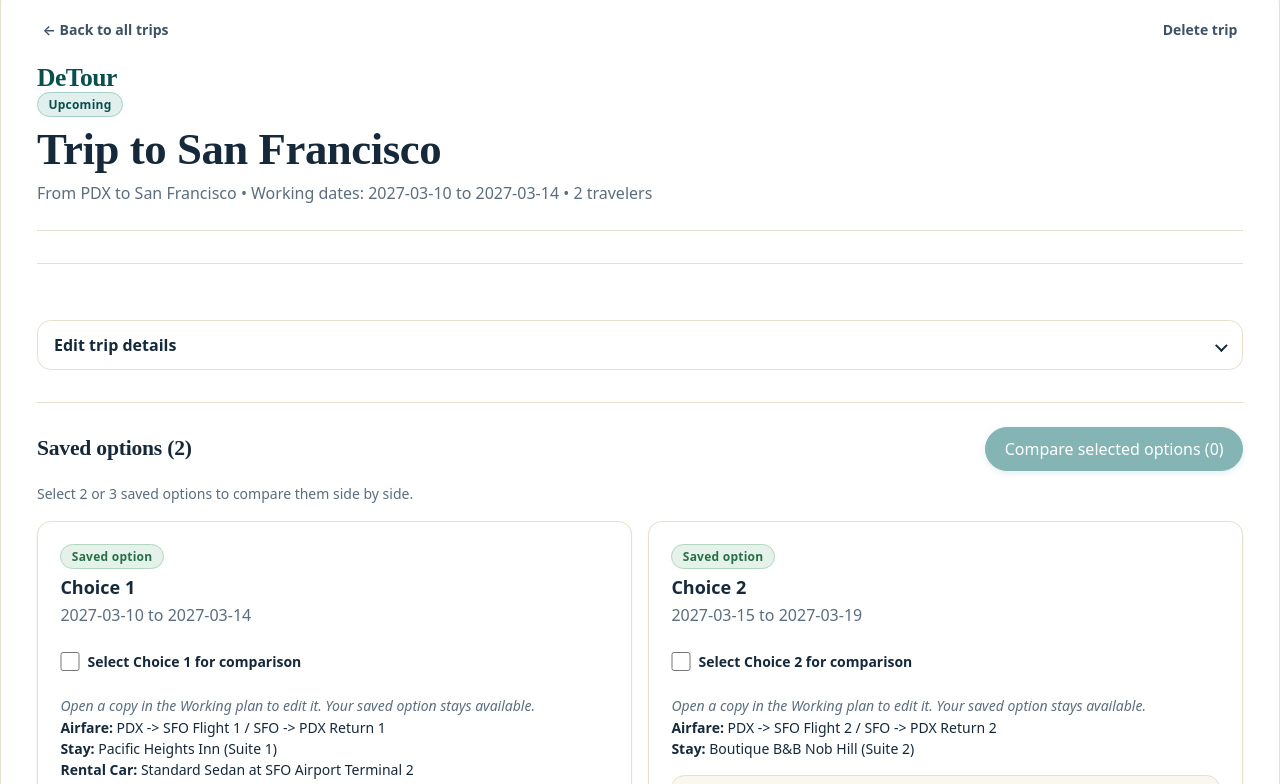
Test: Itinerary Comparison and Booking Selection › renders desktop side-by-side comparison matrix with complete attribute columns for 2 or 3 alternatives
Click the checkbox labelled "Select Choice 1 for comparison" at (70, 661), box 60,652 -> 80,671
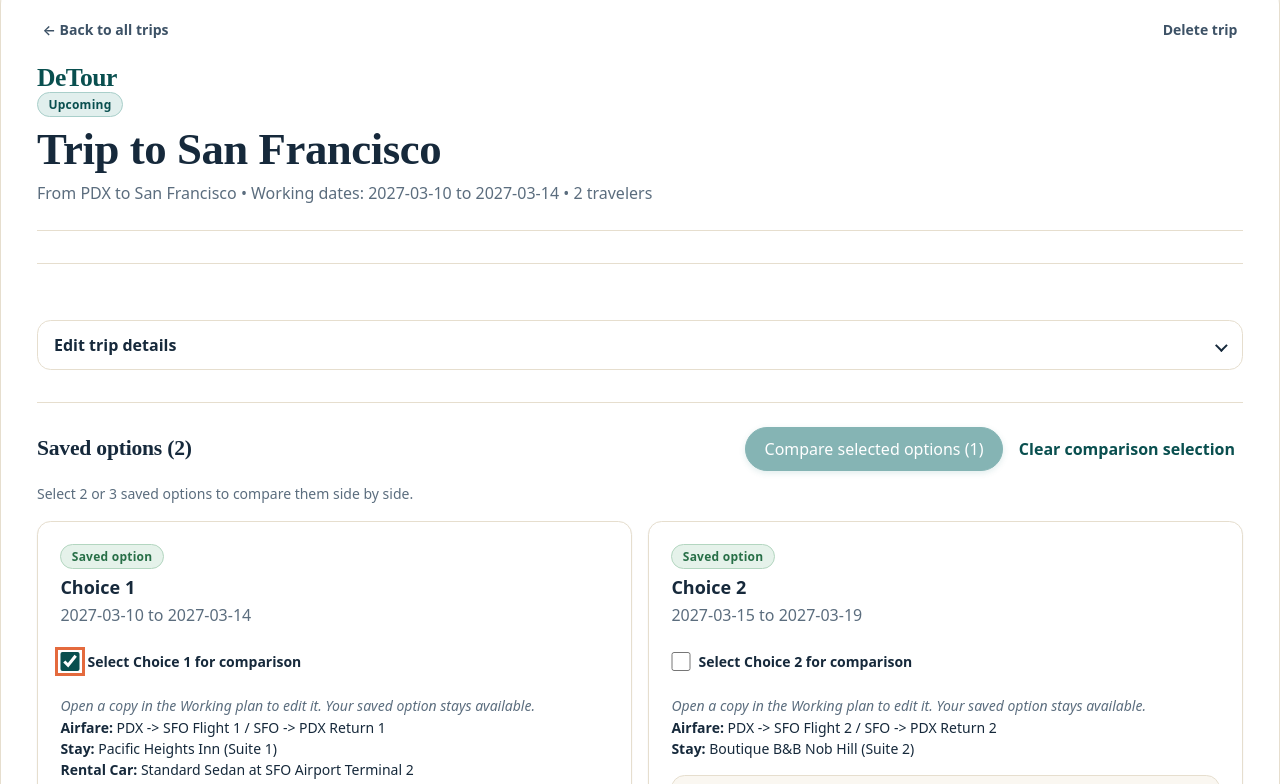
Click the checkbox labelled "Select Choice 2 for comparison" at (681, 661), box 671,652 -> 691,671
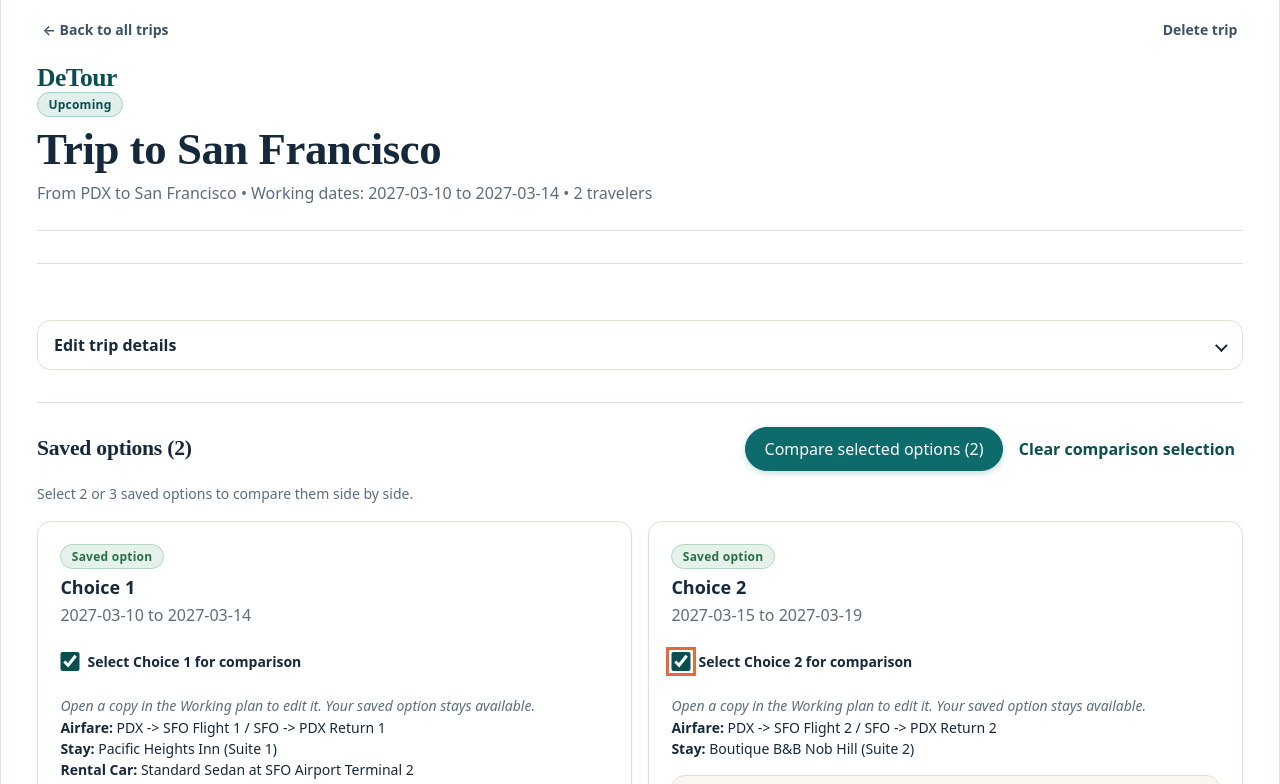
Click the button "Compare selected options (2)" at (874, 449), box 745,427 -> 1003,471
(page scrolled)
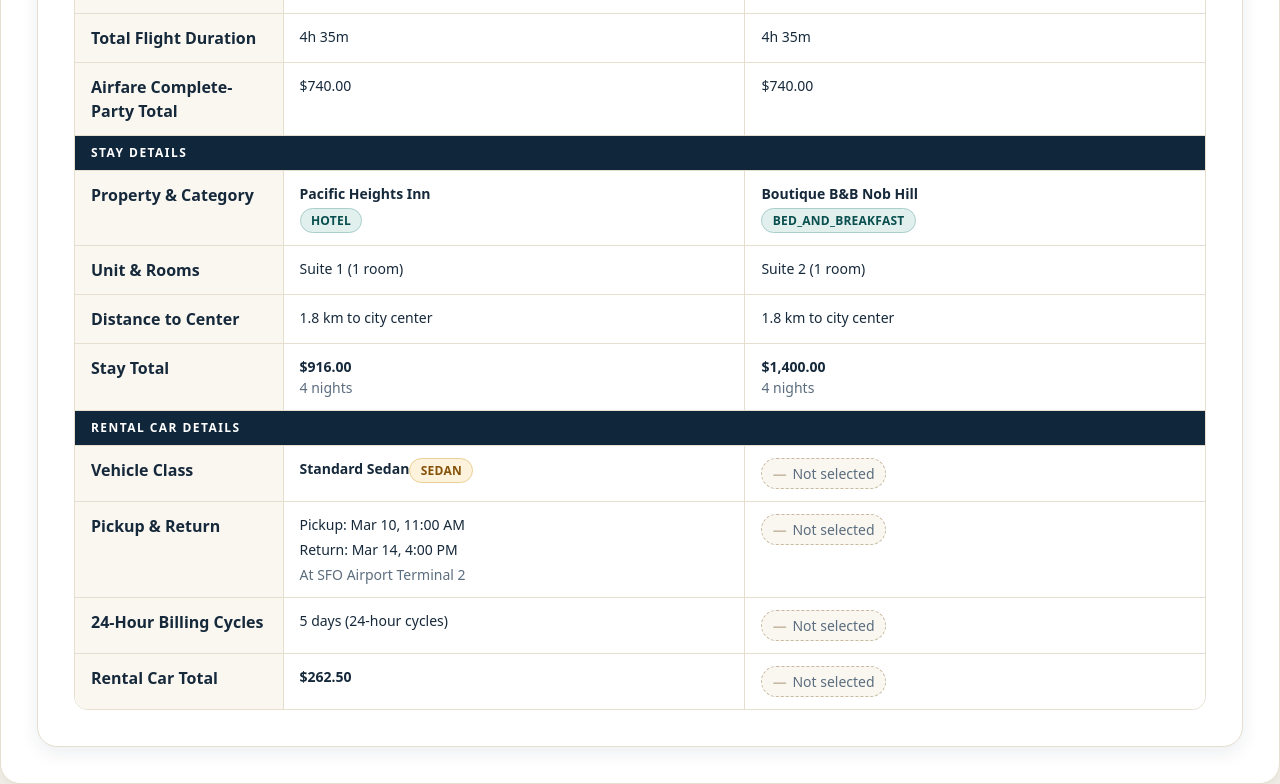
Check: the text "BED_AND_BREAKFAST" is shown, box 761,208 -> 916,233
Check: the 1st text "1.8 km to city center" is shown, box 283,295 -> 745,344
Check: the text "5 days (24-hour cycles)" is shown, box 283,598 -> 745,654
